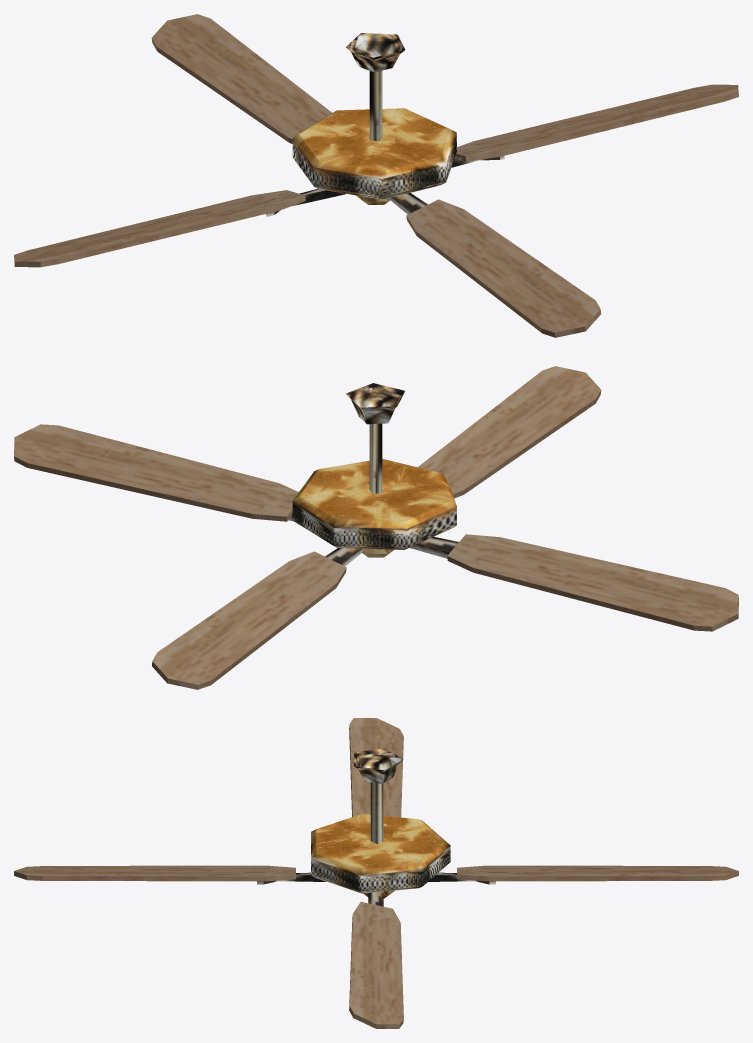
The model's file is ventilador_teto.glb.
3 renders of one model, top to bottom at view 1: azimuth 30°, elevation 25°; view 2: azimuth 150°, elevation 25°; view 3: azimuth 270°, elevation 25°, orthographic. The views are drawn at different scales.
Parts seen in each view (by area): view 1: ventilador_teto; view 2: ventilador_teto; view 3: ventilador_teto.
Boxes of the visible parts, bbox=[...] form: ventilador_teto: bbox=[14, 14, 738, 337]; ventilador_teto: bbox=[14, 366, 738, 689]; ventilador_teto: bbox=[14, 718, 738, 1028].
Bounding box in the file's own units: 2.3 × 0.472 × 2.3.
1 material, 1 textured.
